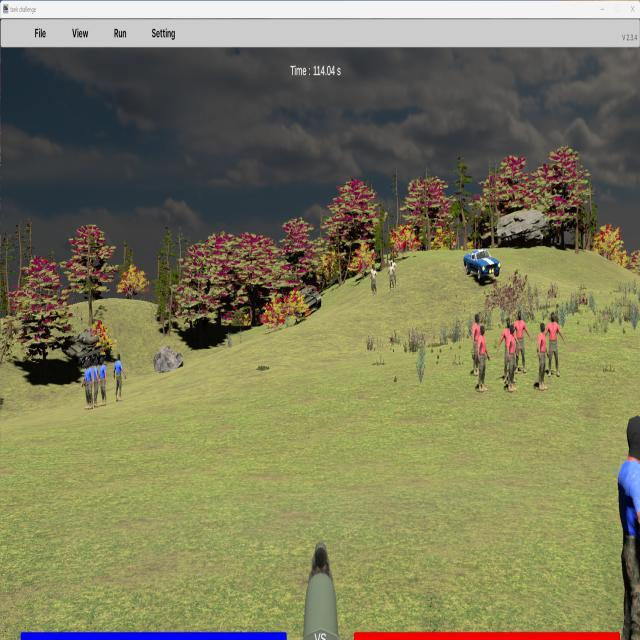Human: (617, 416, 640, 638), (617, 415, 640, 637), (544, 313, 565, 377), (513, 312, 531, 373), (504, 321, 519, 391), (505, 322, 519, 391), (498, 321, 513, 385), (477, 326, 491, 393), (536, 322, 550, 389), (471, 314, 482, 377), (113, 353, 127, 401)
Tank: (60, 328, 111, 369), (291, 286, 322, 317)
car: (464, 249, 501, 280)
